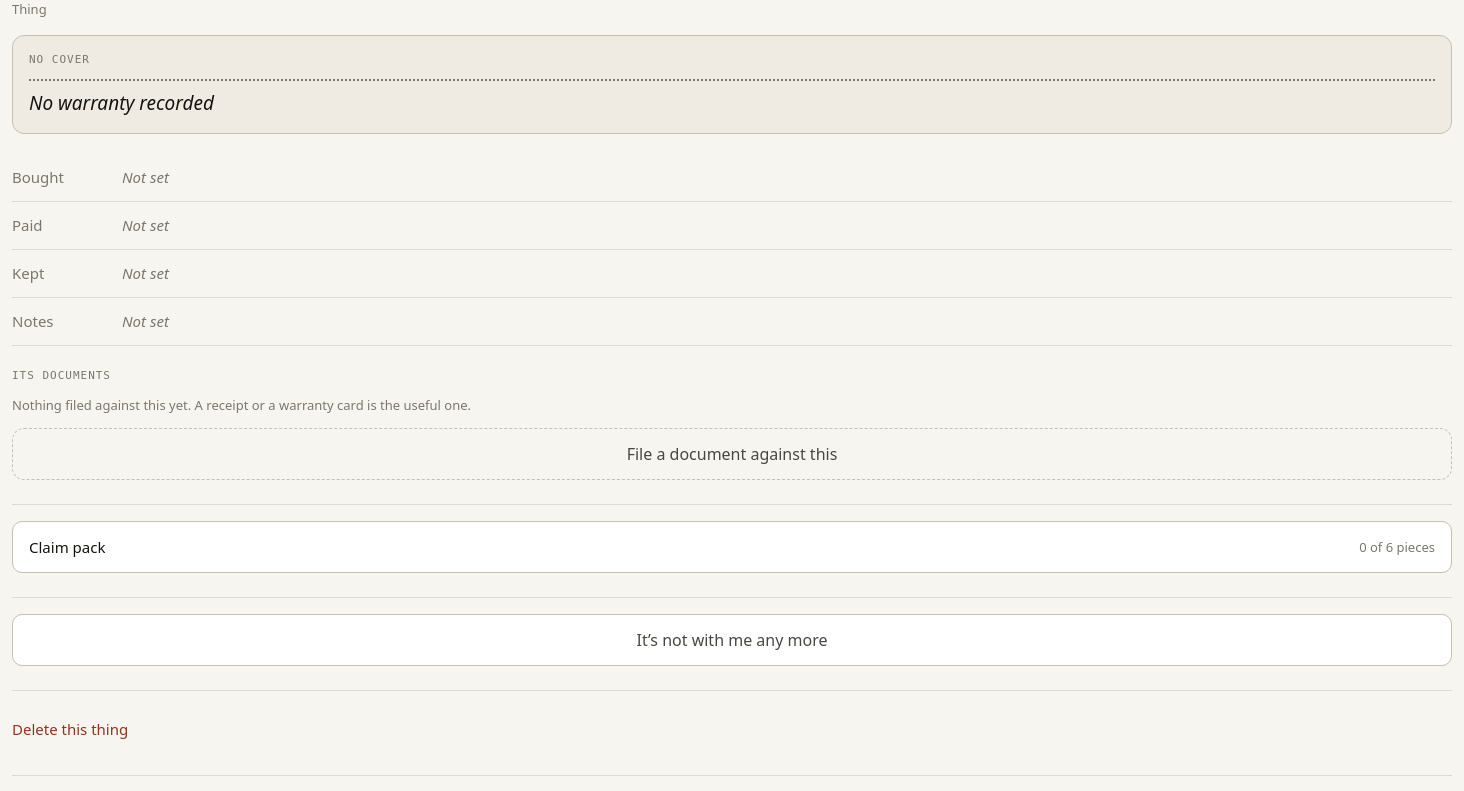
deleting a thing › explains a 409 rather than leaving the tap looking ignored
(page scrolled)
Click the button "Delete this thing": (70,730) [12,708,128,752]
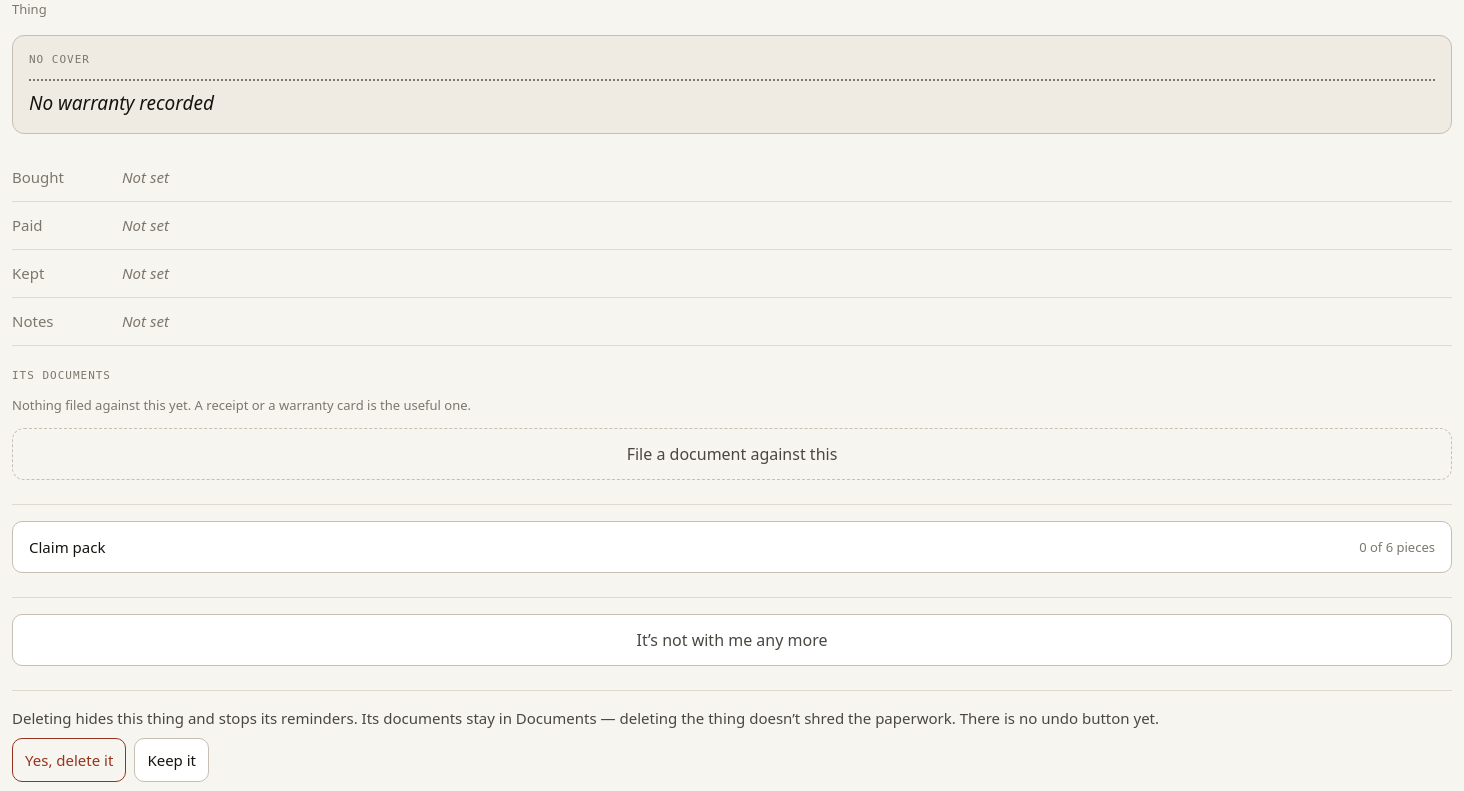
Click the button "Yes, delete it": (69,760) [12,738,126,782]
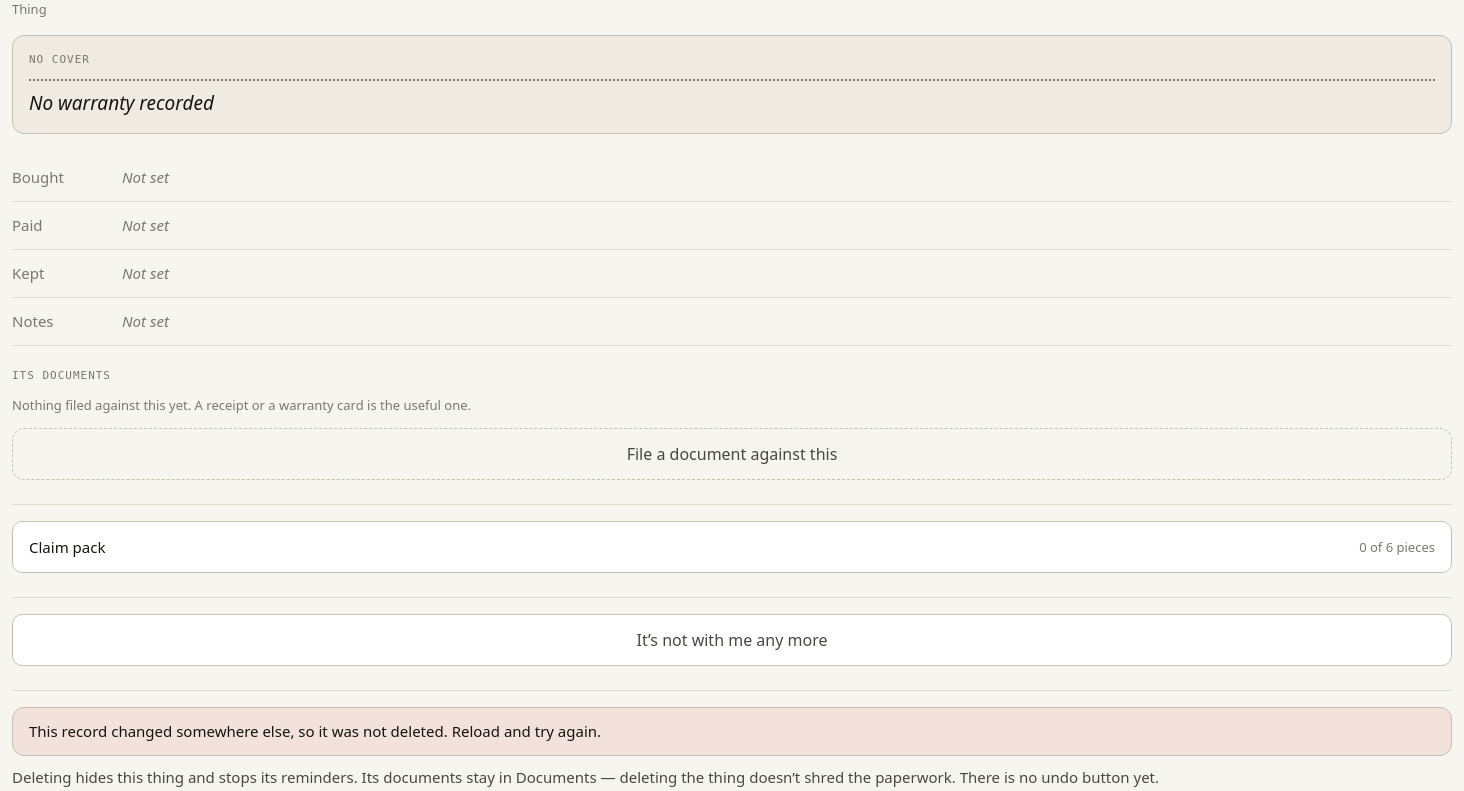
expect the message shows "changed somewhere else": met, box [29,722,601,742]
